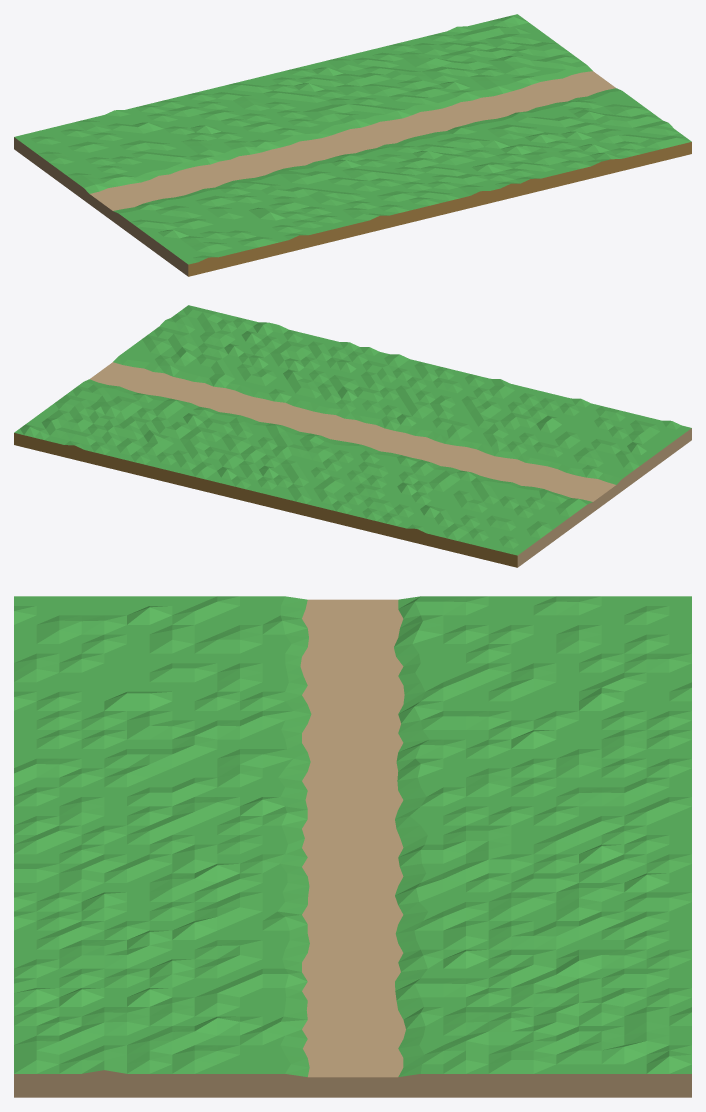
The model's file is Map (unfinished).fbx.
3 views of the same model, one above another, from view 1: azimuth 30°, elevation 25°; view 2: azimuth 150°, elevation 25°; view 3: azimuth 270°, elevation 25° (orthographic). The views are drawn at different scales.
Parts seen in each view (by area): view 1: pCube1; view 2: pCube1; view 3: pCube1.
Part boxes in pixels (<box>): pCube1: <box>14,14,691,276</box>; pCube1: <box>14,305,691,567</box>; pCube1: <box>14,596,691,1097</box>.
Bounding box in the file's own units: 50 × 1.55 × 30.
